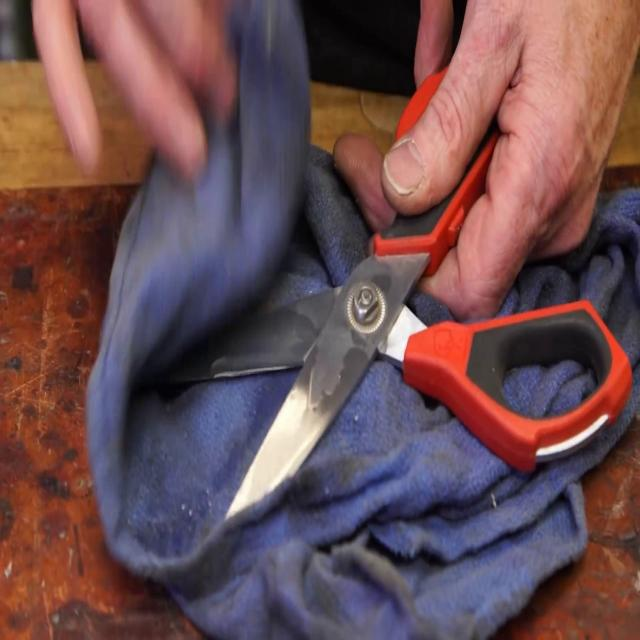scissor: (151, 59, 632, 525)
